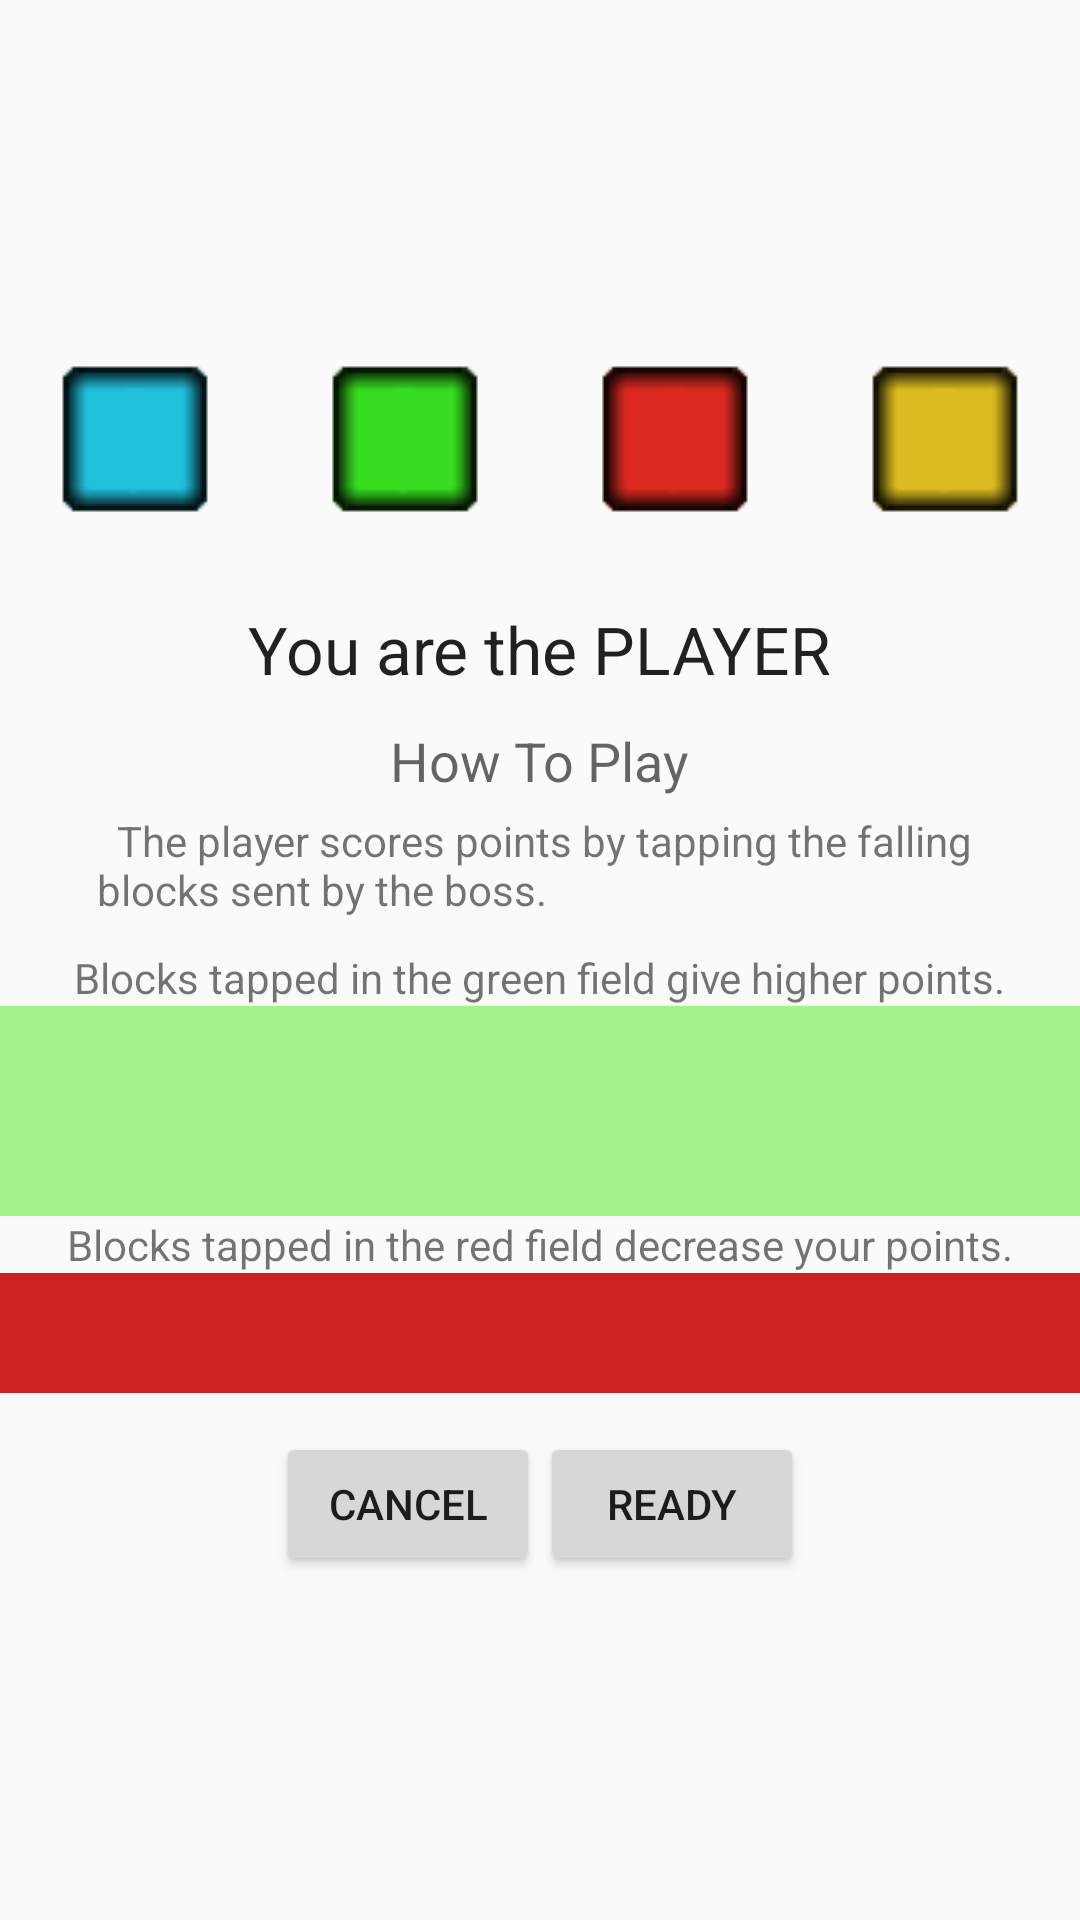

Locate icon controls on the screen. Image size 1080×1920, boxes as {"left": x1, "top": y1, "right": x2, "bottom": y2}.
brick: {"left": 62, "top": 366, "right": 208, "bottom": 512}, {"left": 332, "top": 366, "right": 478, "bottom": 512}, {"left": 602, "top": 366, "right": 748, "bottom": 512}, {"left": 872, "top": 366, "right": 1018, "bottom": 512}
